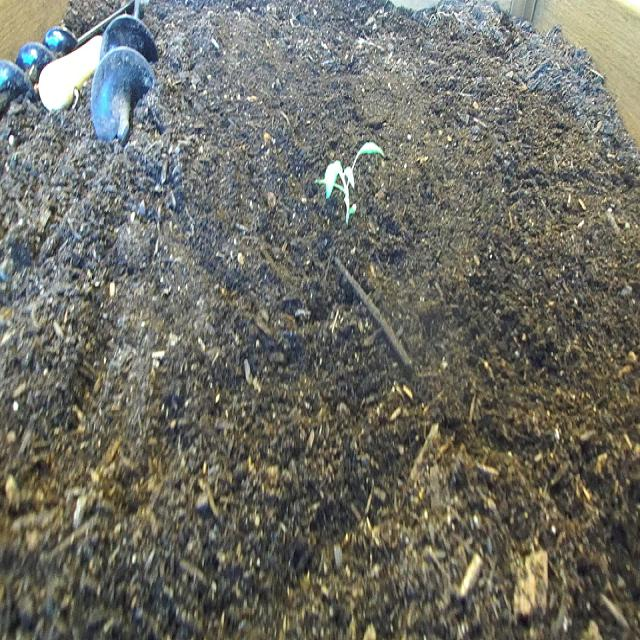Healthy: (314, 132, 386, 236)
